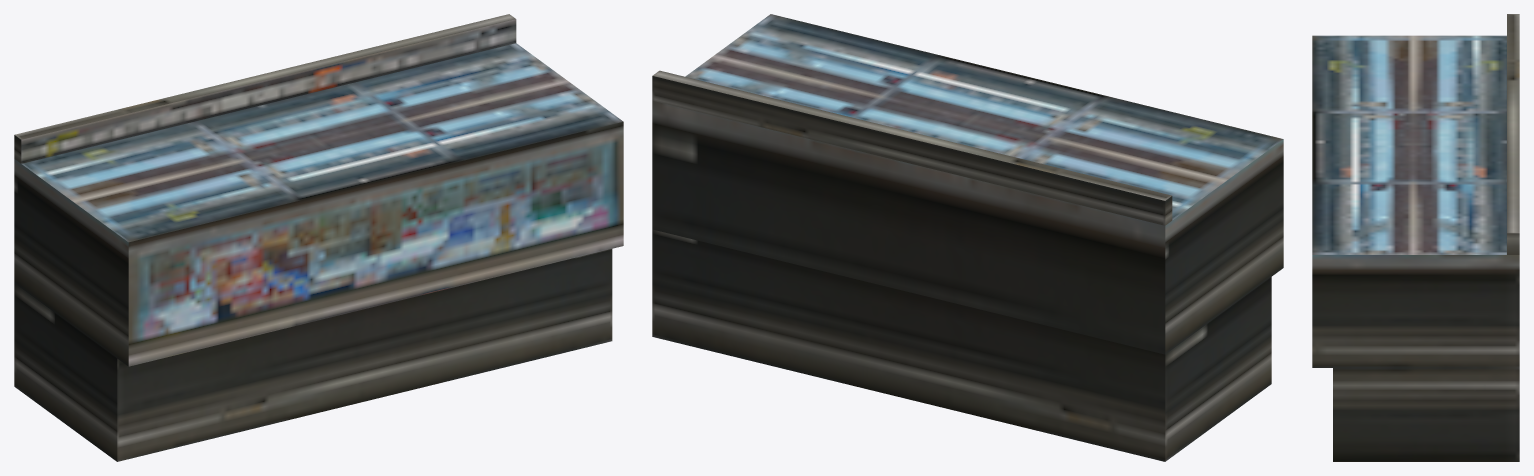
Rendered from StoreFreezer01.obj.
3 renders of one model, left to right at view 1: azimuth 30°, elevation 25°; view 2: azimuth 150°, elevation 25°; view 3: azimuth 270°, elevation 25°, orthographic. The views are drawn at different scales.
Parts seen in each view (by area): view 1: StoreFreezer01; view 2: StoreFreezer01; view 3: StoreFreezer01.
Boxes of the visible parts, x1,y1,x2,y2 form: StoreFreezer01: (14, 14, 623, 461); StoreFreezer01: (652, 14, 1283, 461); StoreFreezer01: (1312, 14, 1519, 461).
Size of the model in its own units: 3 by 1.46 by 1.2.
